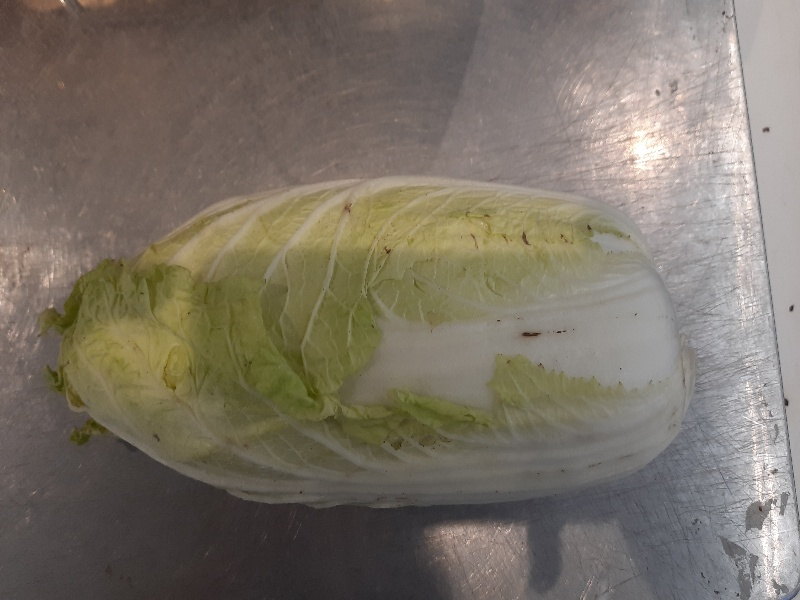vege: (47, 174, 692, 511)
